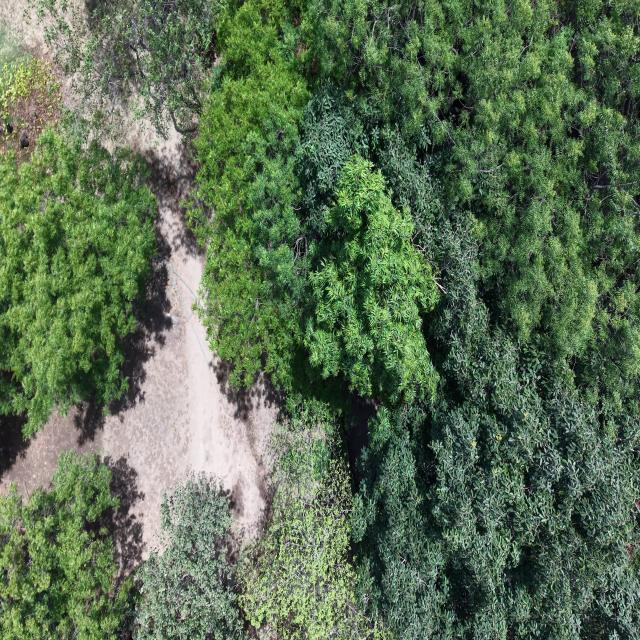DRY_AREA: (0, 131, 277, 563)
VEGETATION_TREE: (176, 0, 639, 639), (199, 3, 639, 637), (197, 4, 638, 406), (309, 2, 639, 407), (191, 3, 437, 397), (0, 401, 393, 639), (353, 337, 639, 638), (0, 27, 156, 436), (136, 401, 392, 639), (0, 129, 155, 434), (190, 0, 310, 385), (0, 452, 246, 639), (305, 156, 438, 402), (240, 403, 372, 639), (32, 0, 223, 135), (0, 452, 133, 639), (241, 450, 371, 639), (136, 474, 245, 639), (0, 23, 61, 163), (0, 48, 60, 160), (0, 56, 54, 129), (0, 22, 23, 64)
